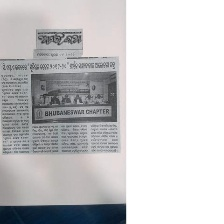news_paper: (0, 27, 122, 156)
